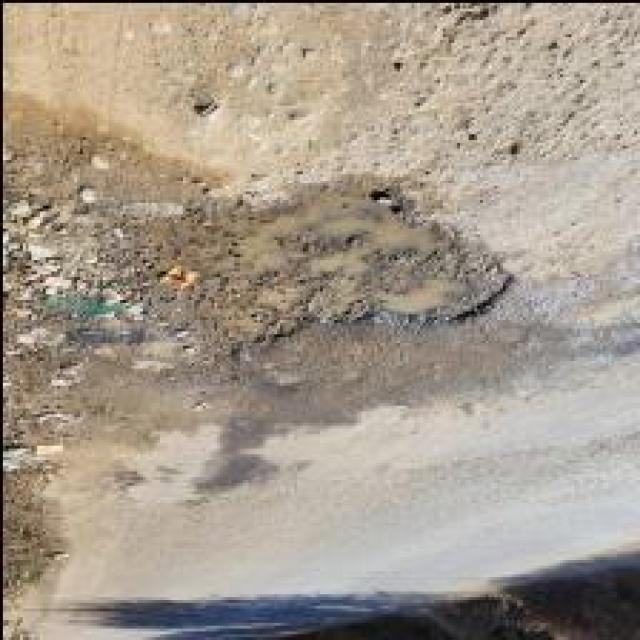BACHE: (143, 192, 506, 335)
